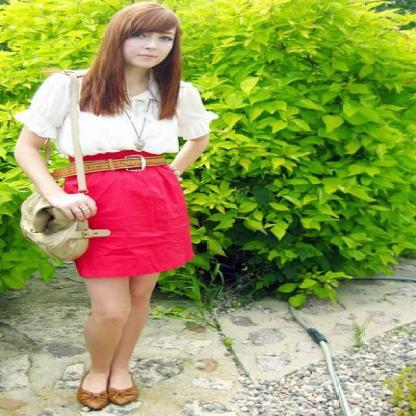bag: (20, 182, 109, 265)
shirt: (14, 70, 213, 162)
shoe: (76, 372, 151, 411)
skirt: (63, 150, 194, 277)
